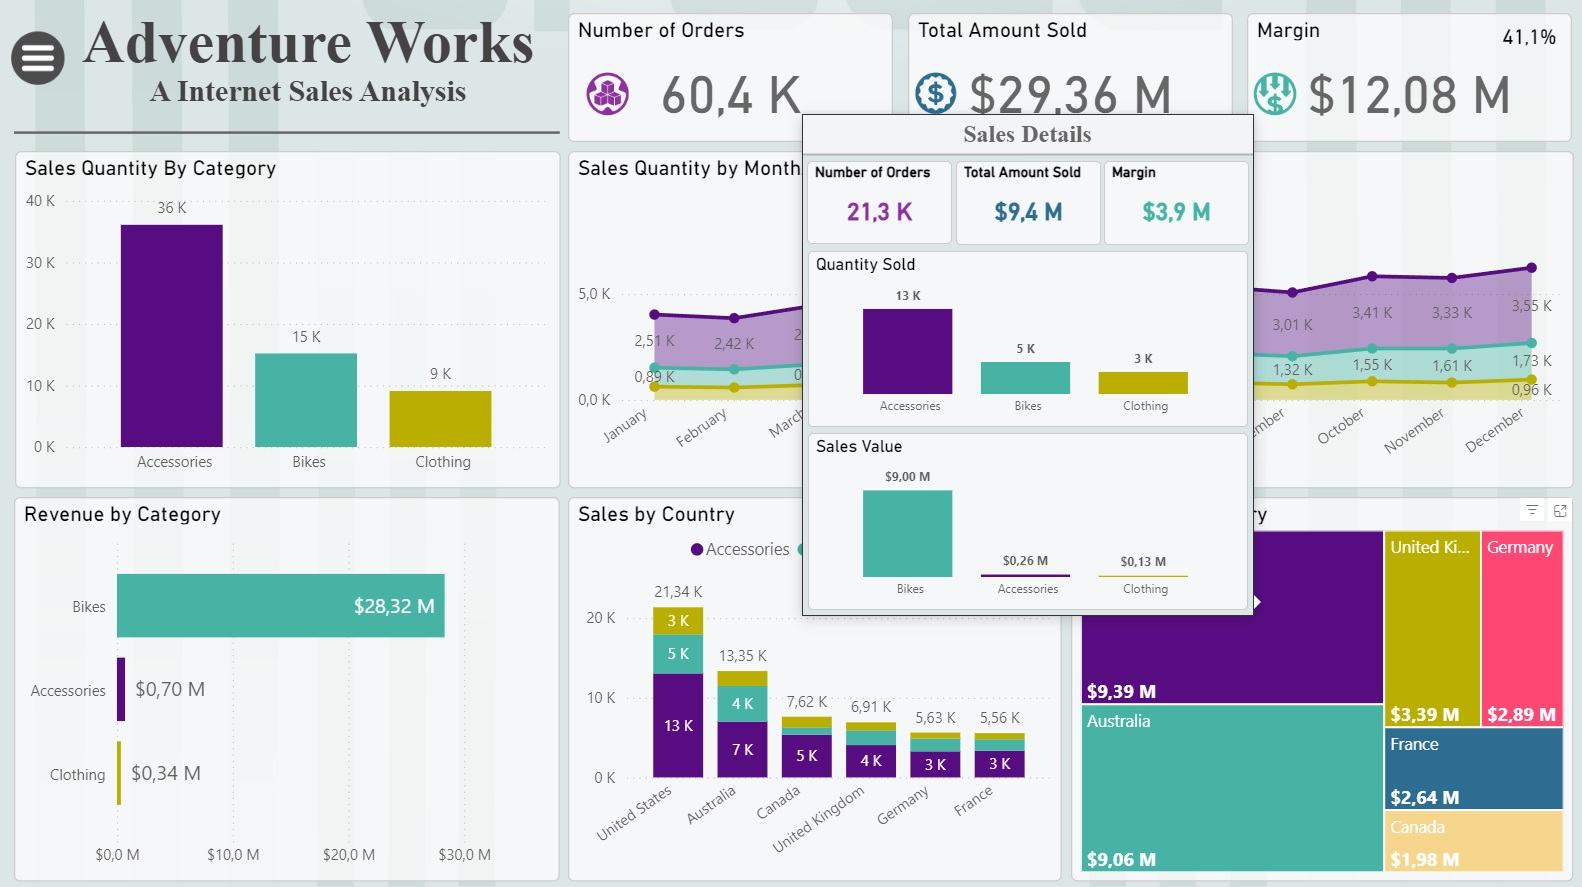

The dashboard page shown, as its layout file describes it:
{"tool":"powerbi","page":{"name":"Overview","canvas":[1280,720],"ordinal":0},"visuals":[{"type":"card","title":"Number of Orders","fields":{"Values":["#medidas.Número de Vendas"]},"box":[459.6,12.4,262,104.1],"z":0},{"type":"stackedAreaChart","title":"Sales Quantity by Month/Category","fields":{"Category":["DimDate.EnglishMonthName"],"Y":["#medidas.Sales Qtd"],"Series":["DimProductCategory.EnglishProductCategoryName"]},"box":[459.6,123.5,810.7,271.7],"z":1000},{"type":"card","title":"Total Amount Sold","fields":{"Values":["#medidas.SalesAmount"]},"box":[733.5,12.4,262,104.1],"z":2000},{"type":"columnChart","title":"Sales by Country","fields":{"Category":["DimSalesTerritory.SalesTerritoryCountry"],"Y":["#medidas.Sales Qtd"],"Series":["DimProductCategory.EnglishProductCategoryName"]},"box":[459.8,402.1,398.1,310.4],"z":3000},{"type":"clusteredBarChart","title":"Revenue by Category","fields":{"Category":["DimProductCategory.EnglishProductCategoryName"],"Y":["#medidas.SalesAmount"]},"box":[13,402,440,310],"z":4000},{"type":"card","title":"Margin","fields":{"Values":["#medidas.Margin"]},"box":[1007.4,12.4,262,104.1],"z":5000},{"type":"card","fields":{"Values":["#medidas.Margin %"]},"box":[1200,12.7,70,38.2],"z":6000},{"type":"columnChart","title":"Sales Quantity By Category","fields":{"Category":["DimProductCategory.EnglishProductCategoryName"],"Y":["#medidas.Sales Qtd"]},"box":[13.3,123.3,440,271.7],"z":7000},{"type":"textbox","box":[58.2,2.6,383.7,94.4],"z":8000},{"type":"shape","box":[13.2,93.5,440.2,30],"z":9000},{"type":"image","box":[733.9,55,44.1,44.1],"z":10000},{"type":"image","box":[468.4,54.5,45.9,45],"z":11000},{"type":"image","box":[1007.4,54.5,45,45],"z":12000},{"type":"treemap","title":"Revenue by Country","fields":{"Group":["DimSalesTerritory.SalesTerritoryCountry"],"Values":["#medidas.SalesAmount"]},"box":[864.8,402.1,405.2,310.4],"z":13000},{"type":"image","box":[5.3,21.2,52.9,54.7],"z":14000},{"type":"actionButton","box":[2.6,21.2,58.2,54.7],"z":14500}]}

Visuals, with their boxes in screenshot pixels (x1, y1, x2, y2), scaled from the page's 1280x720 canvas onto the 1582x887 screenshot:
"Number of Orders" card: <bbox>568, 15, 892, 144</bbox>
"Sales Quantity by Month/Category" stackedAreaChart: <bbox>568, 152, 1570, 487</bbox>
"Total Amount Sold" card: <bbox>907, 15, 1230, 144</bbox>
"Sales by Country" columnChart: <bbox>568, 495, 1060, 878</bbox>
"Revenue by Category" clusteredBarChart: <bbox>16, 495, 560, 877</bbox>
"Margin" card: <bbox>1245, 15, 1569, 144</bbox>
card - #medidas.Margin %: <bbox>1483, 16, 1570, 63</bbox>
"Sales Quantity By Category" columnChart: <bbox>16, 152, 560, 487</bbox>
textbox: <bbox>72, 3, 546, 119</bbox>
shape: <bbox>16, 115, 560, 152</bbox>
image: <bbox>907, 68, 962, 122</bbox>
image: <bbox>579, 67, 636, 123</bbox>
image: <bbox>1245, 67, 1301, 123</bbox>
"Revenue by Country" treemap: <bbox>1069, 495, 1570, 878</bbox>
image: <bbox>7, 26, 72, 94</bbox>
actionButton: <bbox>3, 26, 75, 94</bbox>
